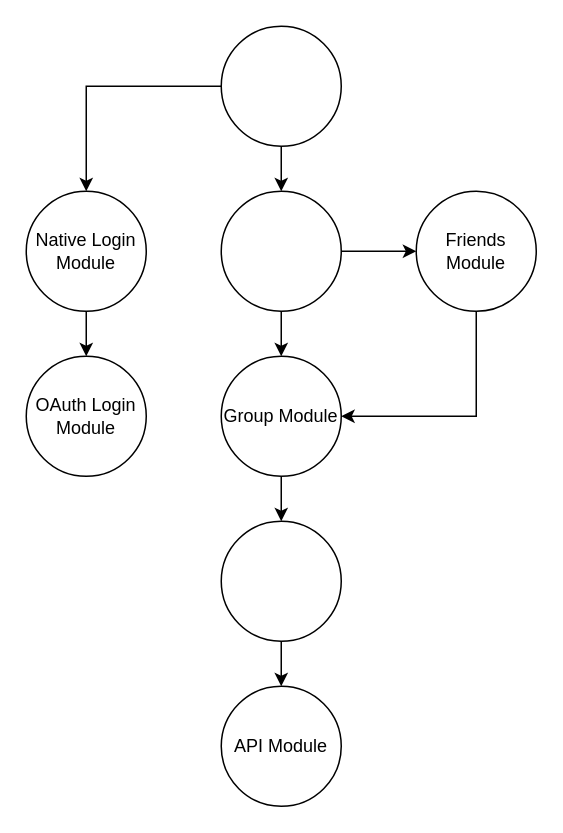
This 563x833 diagram has some shape labels left out. Here are the shapes that lost their labels. From the top down, the centre of each, then its label:
At point 280,85: "Application".
At point 280,250: "Profile Module".
At point 280,580: "Matching Algorithm Module".
